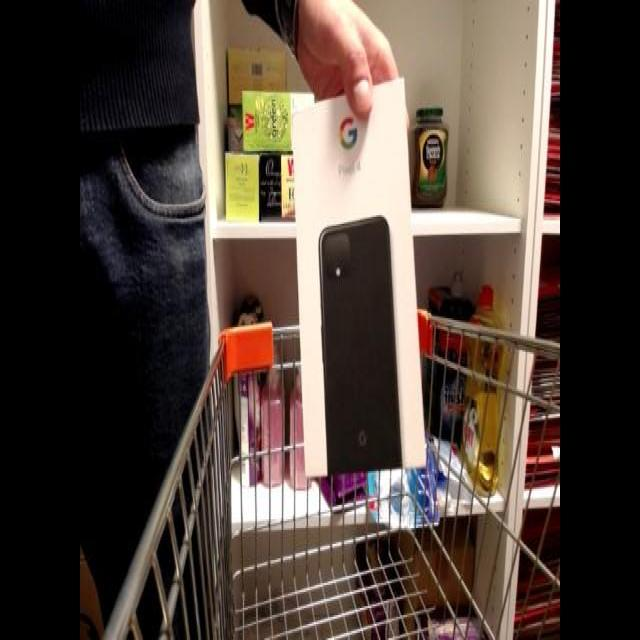Pixel 4: (290, 59, 434, 482)
